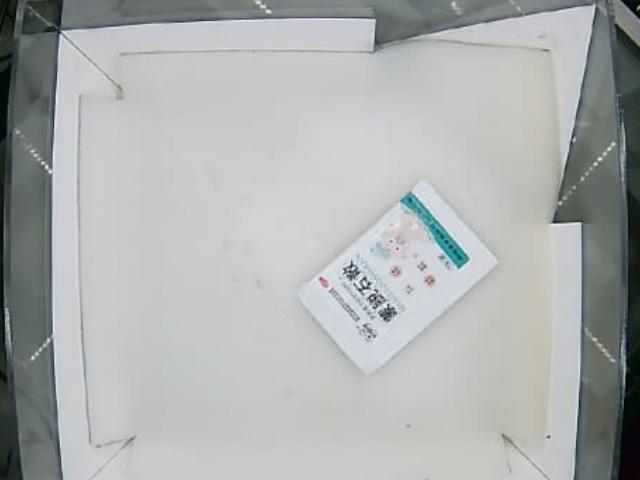Medicine: (297, 182, 502, 380)
